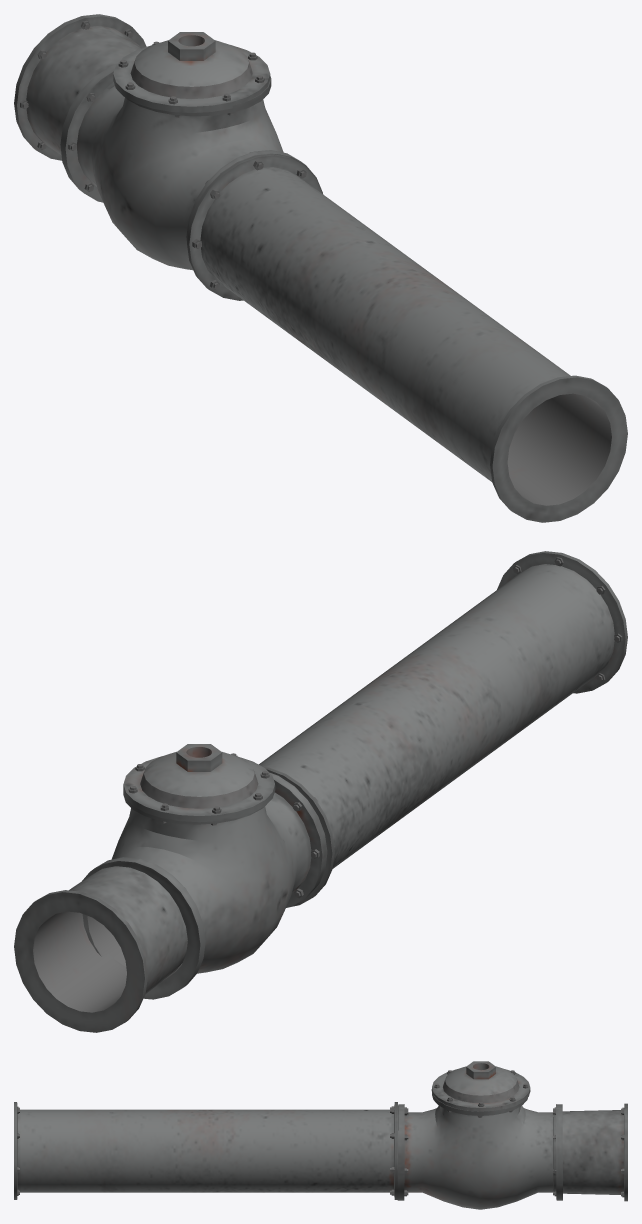
The model's file is TuboFrente.glb.
The picture shows the model from 3 angles, top to bottom: view 1: azimuth 30°, elevation 25°; view 2: azimuth 150°, elevation 25°; view 3: azimuth 270°, elevation 25°; orthographic projection. The views are drawn at different scales.
Parts seen in each view (by area): view 1: Pipe_Straight6, Pipe_Cap_Open_ModularPipes_Large_0.001, Pipe_Open; view 2: Pipe_Straight6, Pipe_Cap_Open_ModularPipes_Large_0.001, Pipe_Open; view 3: Pipe_Straight6, Pipe_Cap_Open_ModularPipes_Large_0.001, Pipe_Open.
Part boxes in pixels (<box>): Pipe_Straight6: <box>187,153,627,522</box>; Pipe_Cap_Open_ModularPipes_Large_0.001: <box>60,32,322,270</box>; Pipe_Open: <box>14,14,146,160</box>; Pipe_Straight6: <box>259,551,627,906</box>; Pipe_Cap_Open_ModularPipes_Large_0.001: <box>82,744,327,999</box>; Pipe_Open: <box>14,866,187,1032</box>; Pipe_Straight6: <box>14,1102,397,1199</box>; Pipe_Cap_Open_ModularPipes_Large_0.001: <box>397,1061,562,1209</box>; Pipe_Open: <box>553,1103,627,1201</box>.
Size of the model in its own units: 2.72 by 3.69 by 14.93.
Materials: 2 (2 with a texture image).
